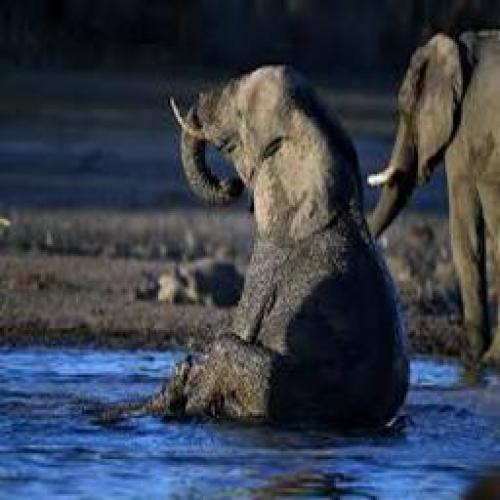african_elephant-endangered: (168, 60, 412, 432), (355, 35, 500, 386)
